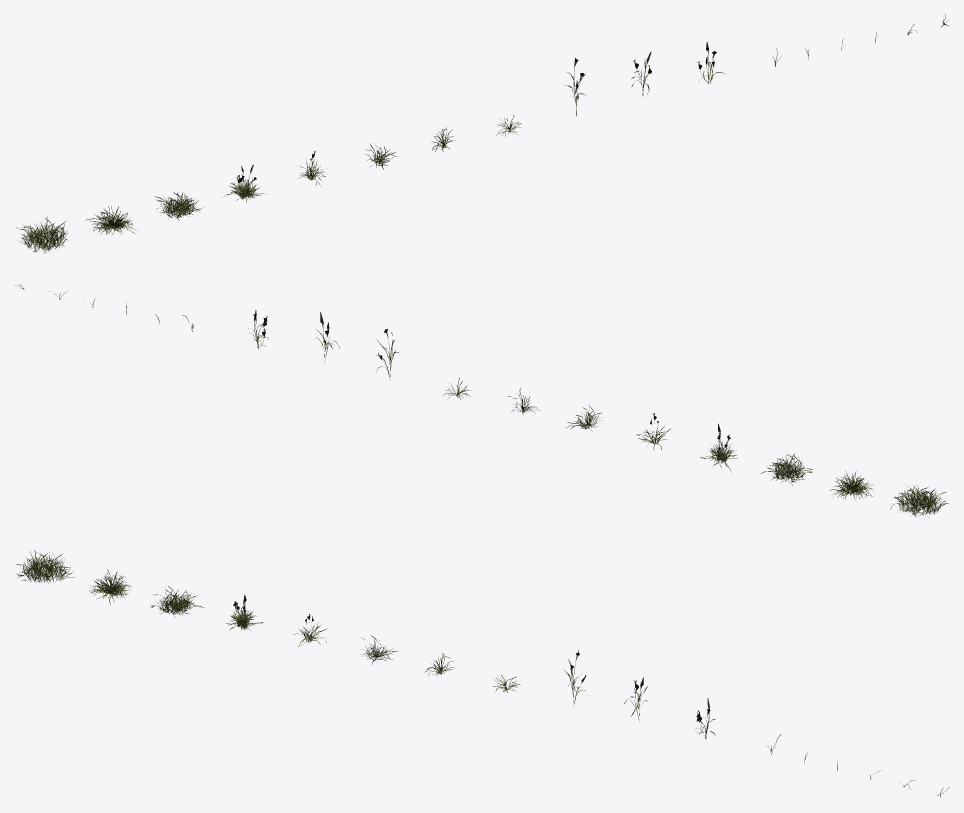
Rendered from grass_medium_01.glb.
3 renders of one model, top to bottom at view 1: azimuth 30°, elevation 25°; view 2: azimuth 150°, elevation 25°; view 3: azimuth 330°, elevation 25°, orthographic.
Parts seen in each view (by area): view 1: grass_medium_01_large_a_LOD0, grass_medium_01_large_c_LOD0, grass_medium_01_large_b_LOD0; view 2: grass_medium_01_large_a_LOD0, grass_medium_01_large_c_LOD0, grass_medium_01_large_b_LOD0; view 3: grass_medium_01_large_a_LOD0, grass_medium_01_large_c_LOD0, grass_medium_01_large_b_LOD0.
Part boxes in pixels (bbox=[...]): grass_medium_01_large_a_LOD0: bbox=[16, 216, 67, 253]; grass_medium_01_large_c_LOD0: bbox=[155, 192, 203, 220]; grass_medium_01_large_b_LOD0: bbox=[85, 206, 136, 235]; grass_medium_01_large_a_LOD0: bbox=[890, 485, 948, 517]; grass_medium_01_large_c_LOD0: bbox=[760, 454, 812, 485]; grass_medium_01_large_b_LOD0: bbox=[829, 471, 873, 499]; grass_medium_01_large_a_LOD0: bbox=[16, 550, 74, 583]; grass_medium_01_large_c_LOD0: bbox=[150, 586, 203, 617]; grass_medium_01_large_b_LOD0: bbox=[89, 569, 131, 604].
Size of the model in its own units: 5.6 by 0.3418 by 0.3266.
1 material, 1 textured.
